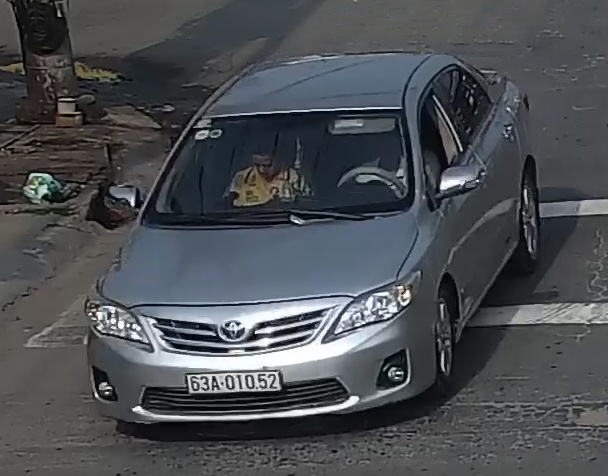vehicle plate: (180, 368, 291, 397)
